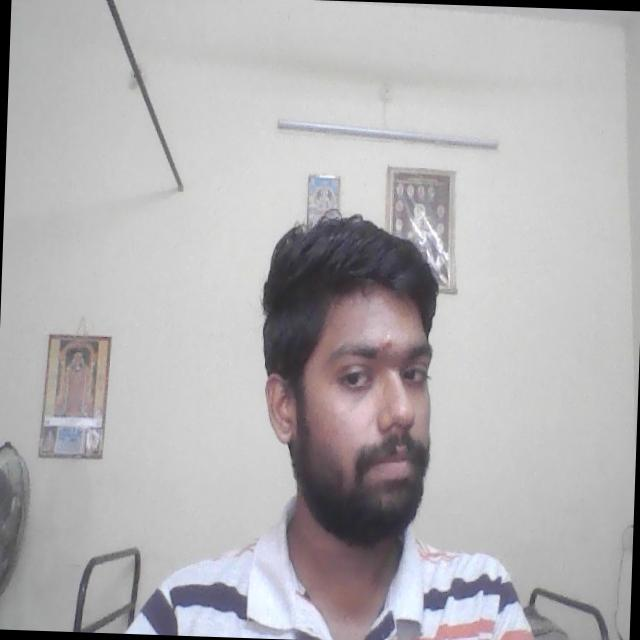Focused: (266, 317, 445, 497)
